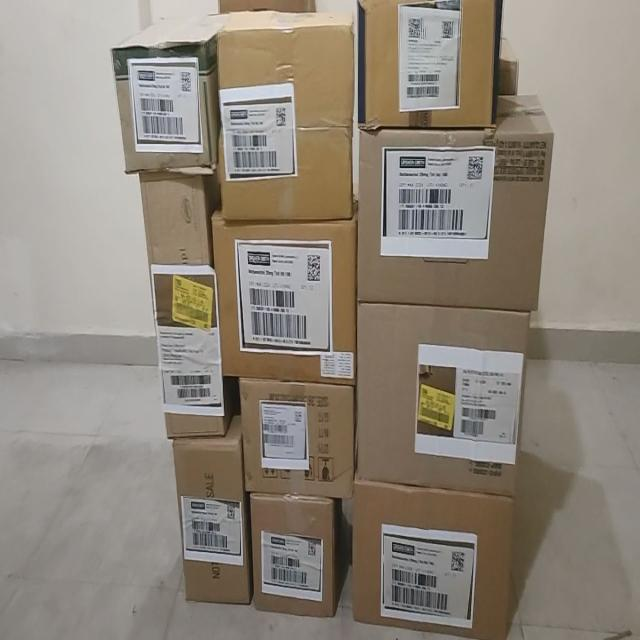BoxFace: (356, 92, 554, 311), (356, 300, 530, 494), (214, 9, 354, 221), (351, 474, 517, 638), (210, 202, 358, 382), (135, 169, 227, 437), (357, 0, 504, 129), (109, 12, 225, 175), (171, 414, 252, 606), (237, 376, 355, 498), (249, 490, 338, 618)
